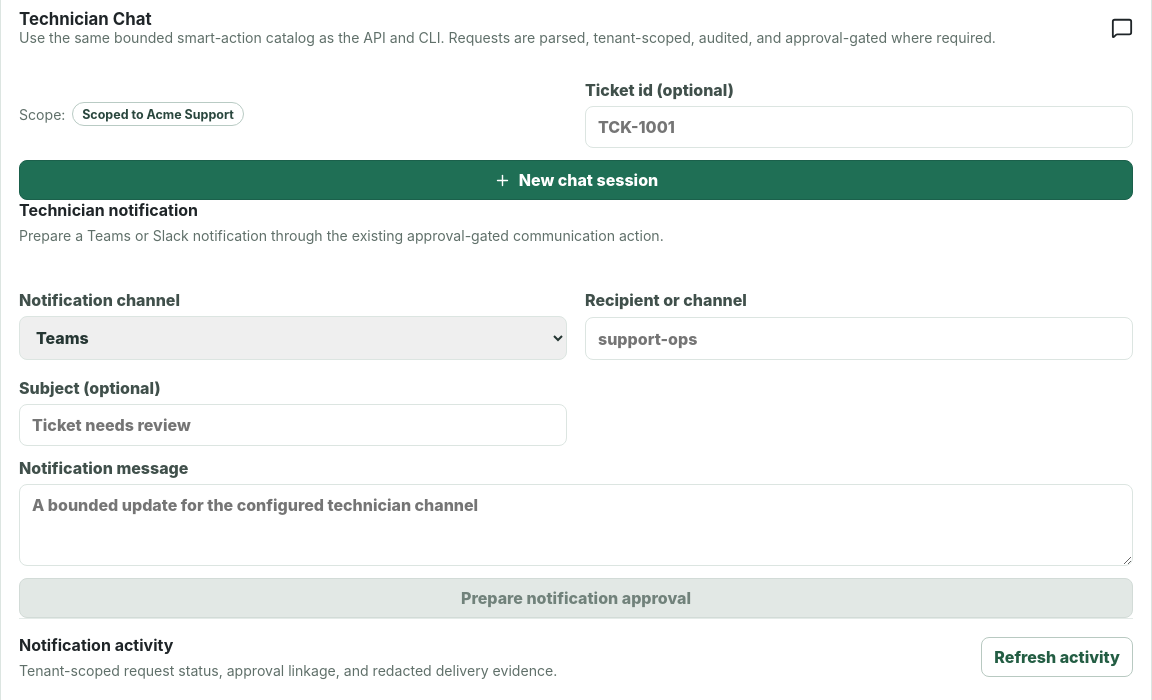
it: TechnicianChat › loads sessions, starts a session, sends a bounded request, and closes it
The width and height of the screenshot is (1152, 700).
Expected: the heading "Technician Chat" is shown, [19, 9, 152, 29]
Click the button "New chat session" at (576, 180), box [19, 160, 1133, 200]
(page scrolled)
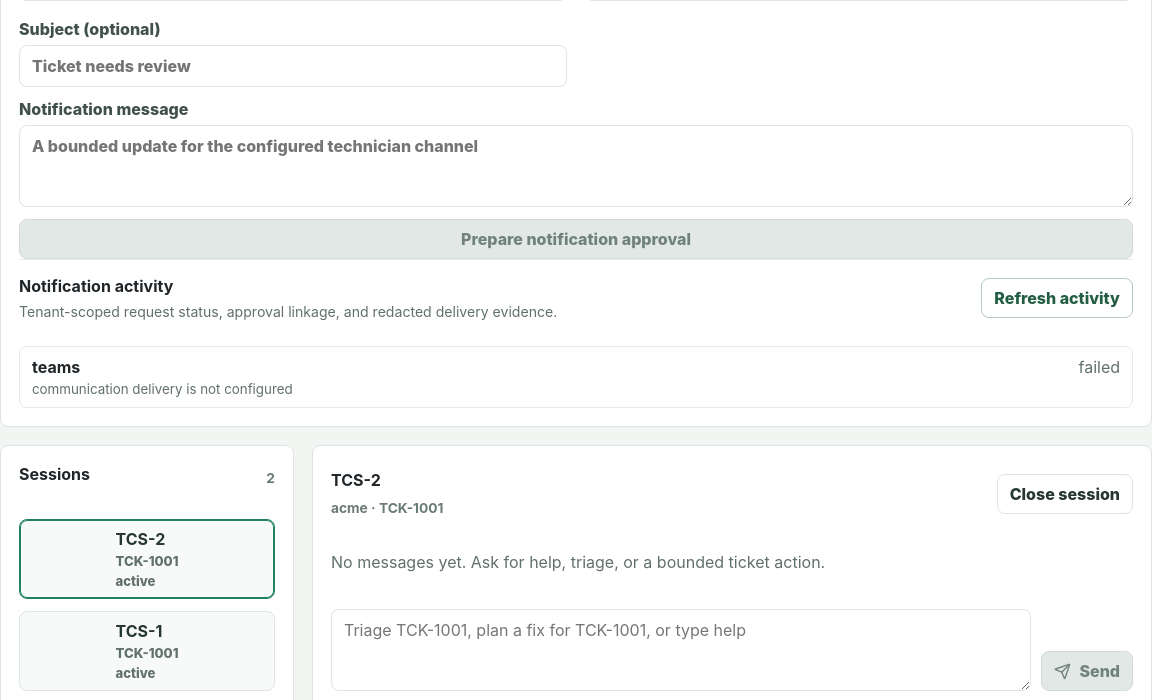
Click the button "TCS-1 TCK-1001 active" at (147, 651), box [19, 611, 275, 691]
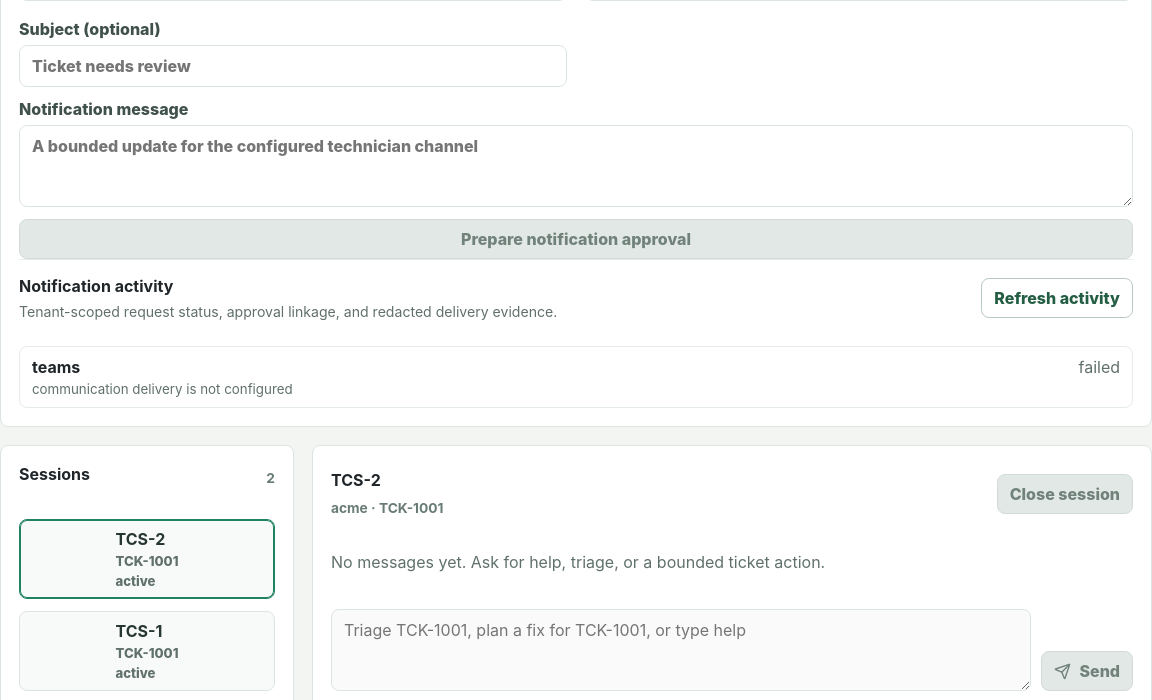
Type "summarize TCK-1001" into the text box named "Message" at (681, 650), box [331, 609, 1032, 691]
(page scrolled)
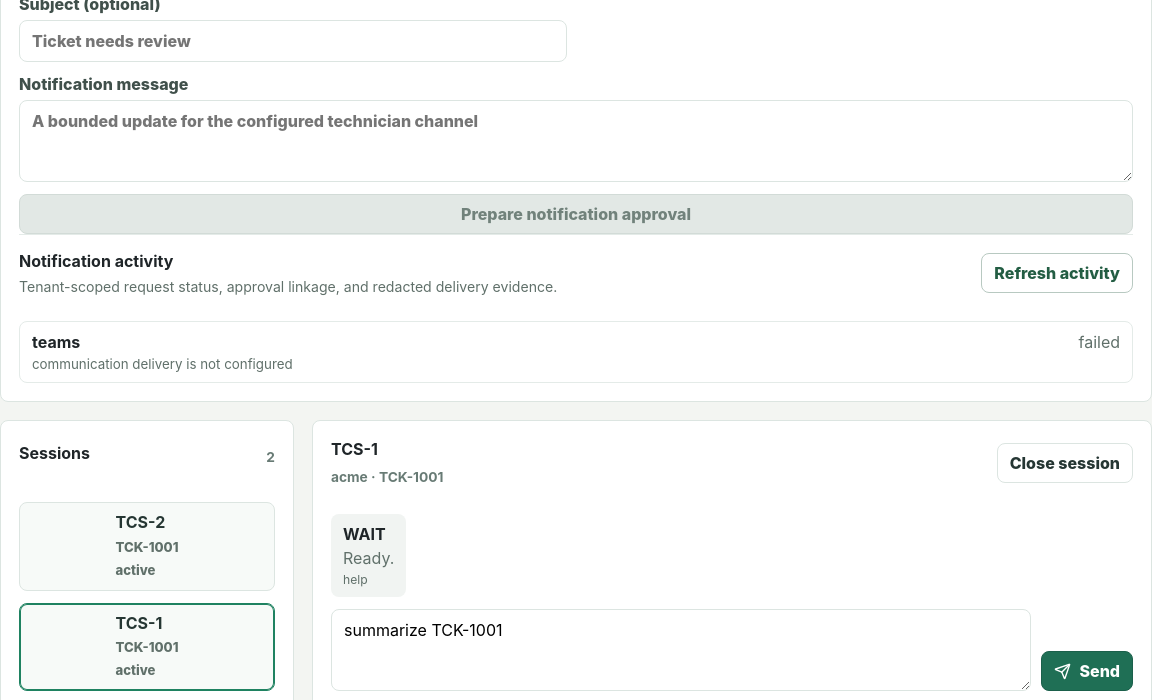
Expected: the button "Send" is enabled
Click the button "Send" at (1087, 671), box [1042, 651, 1133, 691]
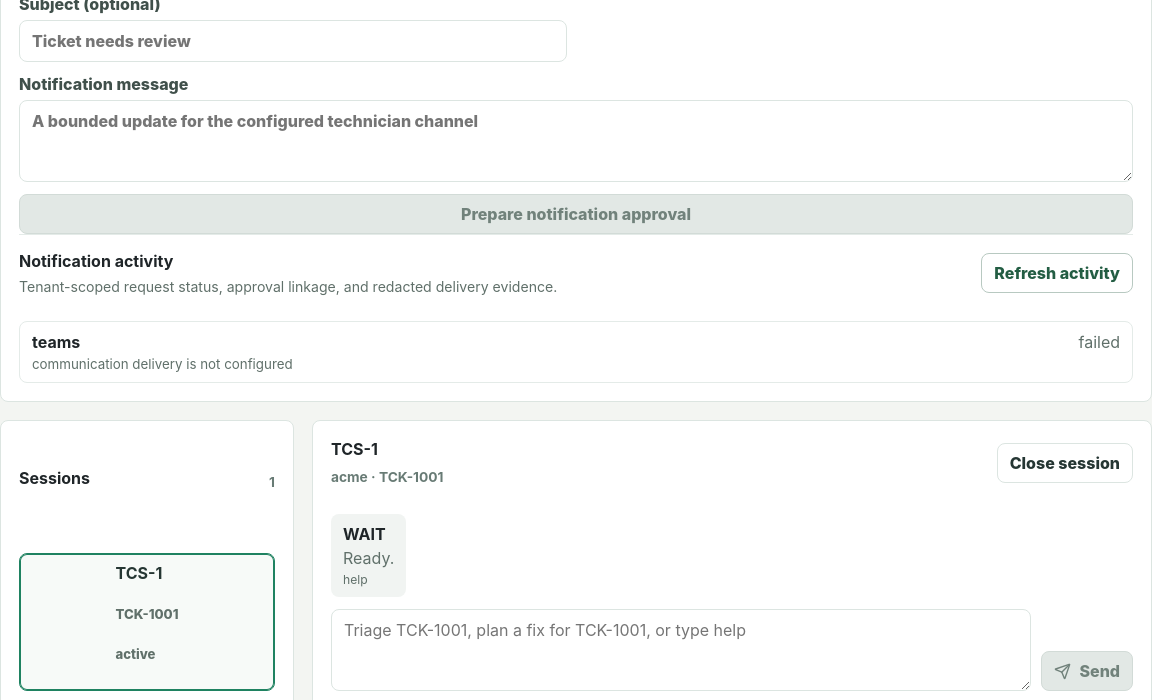
Click the button "Close session" at (1065, 462), box [997, 442, 1133, 482]
(page scrolled)
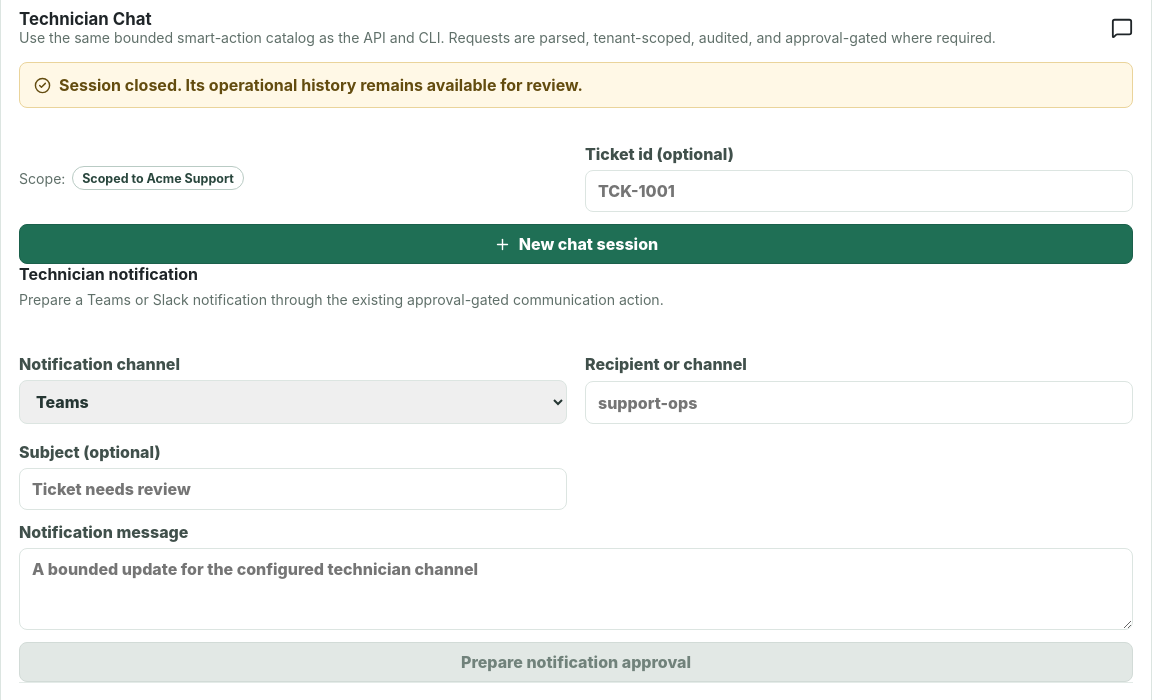
Expected: the text "Session closed. Its operational history remains available for review." is shown, [19, 62, 1133, 108]
